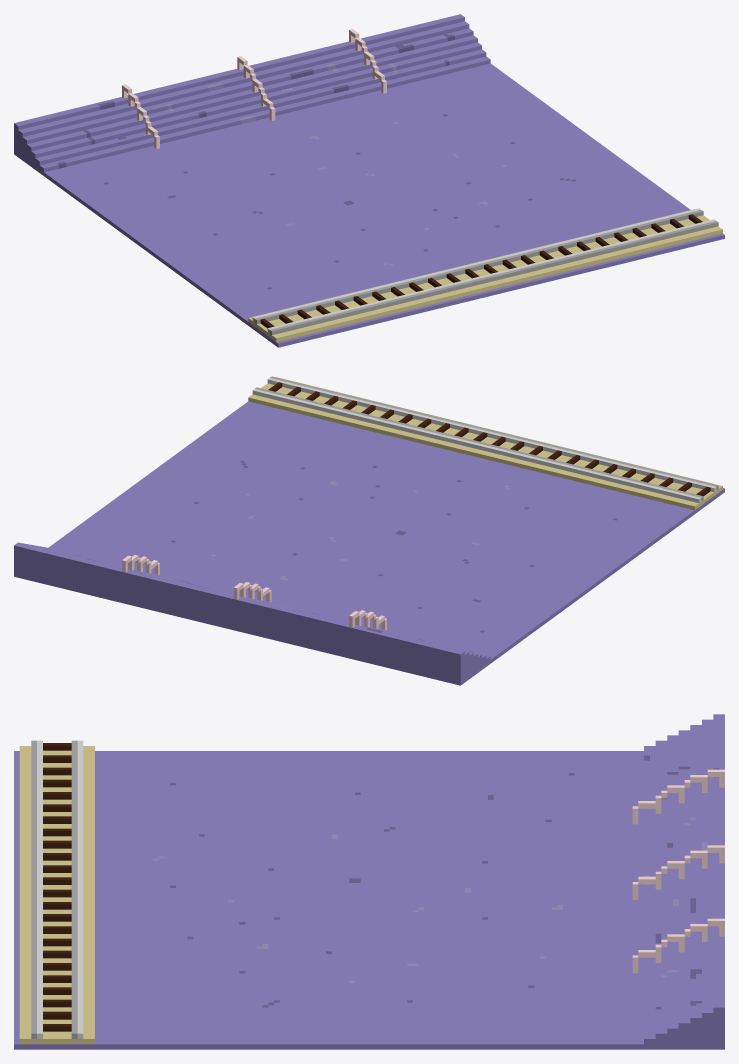
The model's file is map1.obj.
3 views of the same model, one above another, from view 1: azimuth 30°, elevation 25°; view 2: azimuth 150°, elevation 25°; view 3: azimuth 270°, elevation 25° (orthographic). The views are drawn at different scales.
Parts seen in each view (by area): view 1: map1; view 2: map1; view 3: map1.
Part boxes in pixels (box(x1,y1,x2,y2)): map1: box(14, 14, 724, 347); map1: box(14, 376, 724, 685); map1: box(14, 714, 724, 1049).
Size of the model in its own units: 120 by 11 by 123.
Materials: 1 (1 with a texture image).
